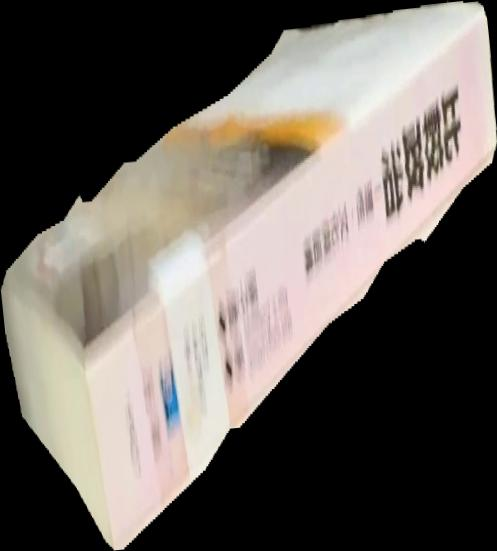flat: (1, 1, 497, 551)
